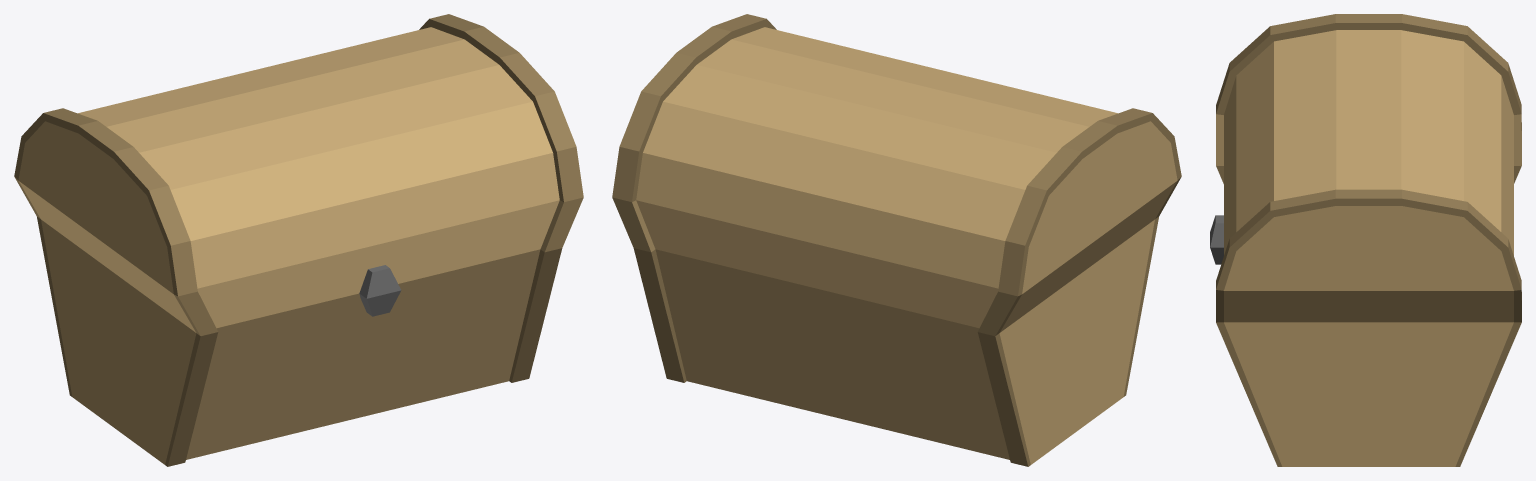
Rendered from Chest_1_7.fbx.
The picture shows the model from 3 angles, left to right: view 1: azimuth 30°, elevation 25°; view 2: azimuth 150°, elevation 25°; view 3: azimuth 270°, elevation 25°; orthographic projection. The views are drawn at different scales.
Visible parts, largest first — view 1: Chest_1_7; view 2: Chest_1_7; view 3: Chest_1_7.
Part boxes in pixels (<box>): Chest_1_7: <box>14,14,583,466</box>; Chest_1_7: <box>612,14,1181,466</box>; Chest_1_7: <box>1210,14,1521,466</box>.
Size of the model in its own units: 46.32 by 32.51 by 33.04.
